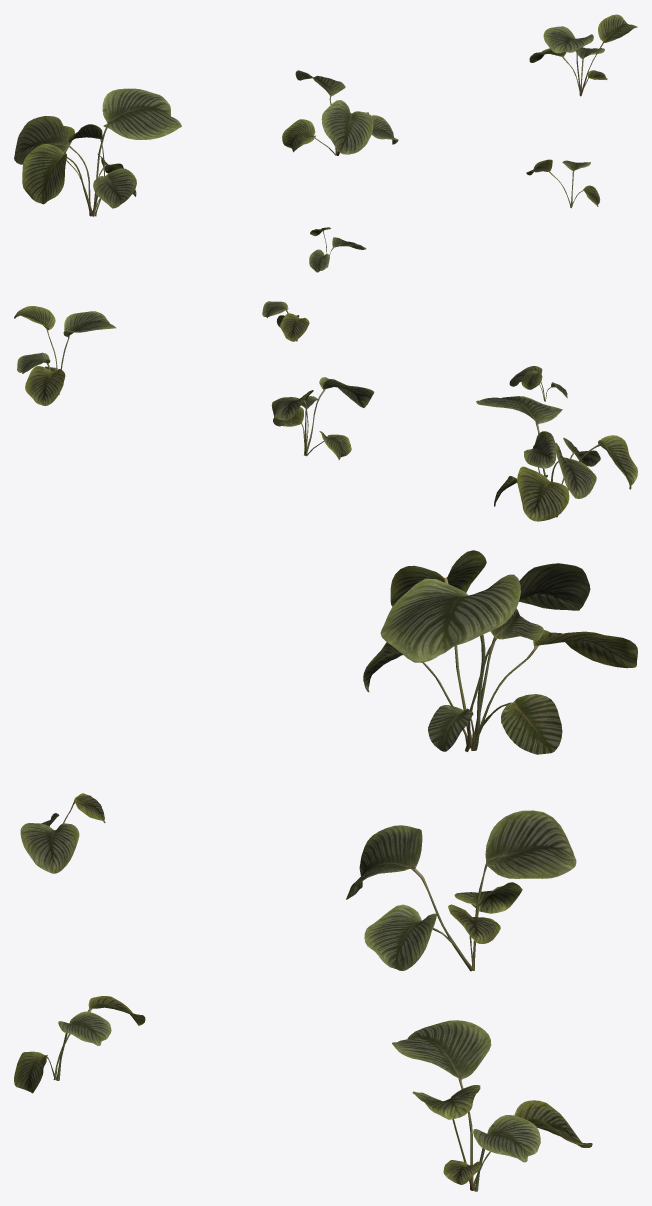
Rendered from calathea_orbifolia_01.glb.
3 renders of one model, top to bottom at view 1: azimuth 30°, elevation 25°; view 2: azimuth 150°, elevation 25°; view 3: azimuth 270°, elevation 25°, orthographic. The views are drawn at different scales.
Parts seen in each view (by area): view 1: calathea_orbifolia_01_a, calathea_orbifolia_01_b, calathea_orbifolia_01_c, calathea_orbifolia_01_e, calathea_orbifolia_01_d; view 2: calathea_orbifolia_01_a, calathea_orbifolia_01_c, calathea_orbifolia_01_b, calathea_orbifolia_01_e, calathea_orbifolia_01_d; view 3: calathea_orbifolia_01_a, calathea_orbifolia_01_b, calathea_orbifolia_01_c, calathea_orbifolia_01_e, calathea_orbifolia_01_d.
Part boxes in pixels (box(x1,y1,x2,y2)): calathea_orbifolia_01_a: box(14, 88, 181, 216); calathea_orbifolia_01_b: box(282, 70, 398, 155); calathea_orbifolia_01_c: box(529, 14, 637, 96); calathea_orbifolia_01_e: box(526, 159, 600, 208); calathea_orbifolia_01_d: box(309, 227, 366, 272); calathea_orbifolia_01_a: box(476, 396, 637, 521); calathea_orbifolia_01_c: box(14, 306, 115, 405); calathea_orbifolia_01_b: box(271, 377, 374, 459); calathea_orbifolia_01_e: box(262, 301, 309, 341); calathea_orbifolia_01_d: box(509, 366, 567, 401); calathea_orbifolia_01_a: box(363, 550, 637, 754); calathea_orbifolia_01_b: box(346, 810, 576, 971); calathea_orbifolia_01_c: box(392, 1020, 592, 1191); calathea_orbifolia_01_e: box(14, 996, 145, 1093); calathea_orbifolia_01_d: box(20, 793, 105, 873).
Bounding box in the file's own units: 2.49 × 0.4243 × 1.19.
1 material, 1 textured.
